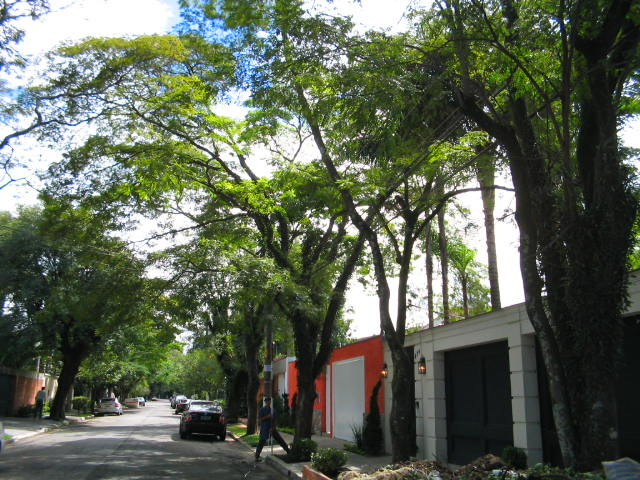stem: (507, 283, 635, 475), (381, 358, 424, 461), (285, 375, 320, 460)
stick: (267, 343, 278, 460)
tree: (313, 2, 478, 461), (481, 3, 637, 474), (256, 8, 367, 460)
